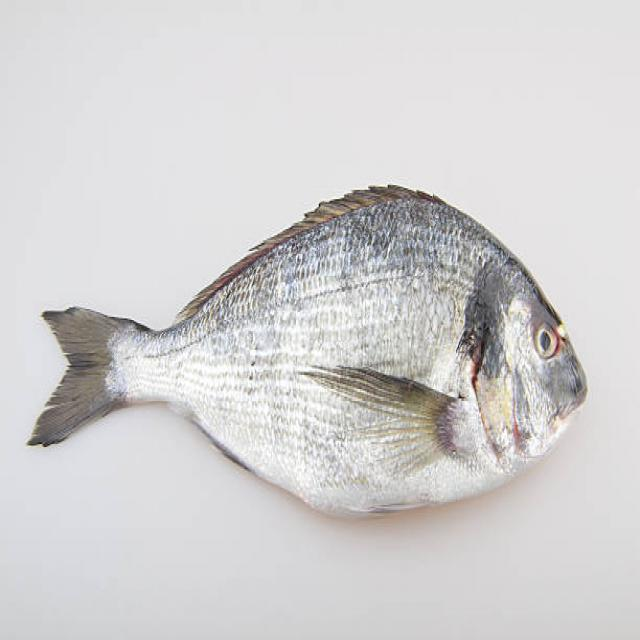Healthy Fish: (28, 179, 598, 516)
